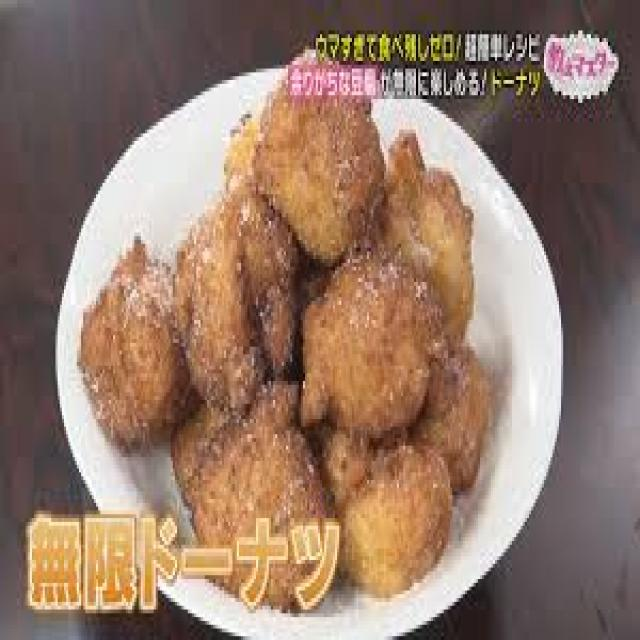organic waste: (182, 377, 324, 610), (298, 232, 442, 438), (256, 46, 382, 270), (175, 190, 296, 400), (75, 228, 190, 442), (369, 122, 474, 350), (333, 431, 450, 598), (416, 332, 486, 488), (164, 392, 233, 496), (312, 415, 376, 507), (224, 114, 260, 179)
